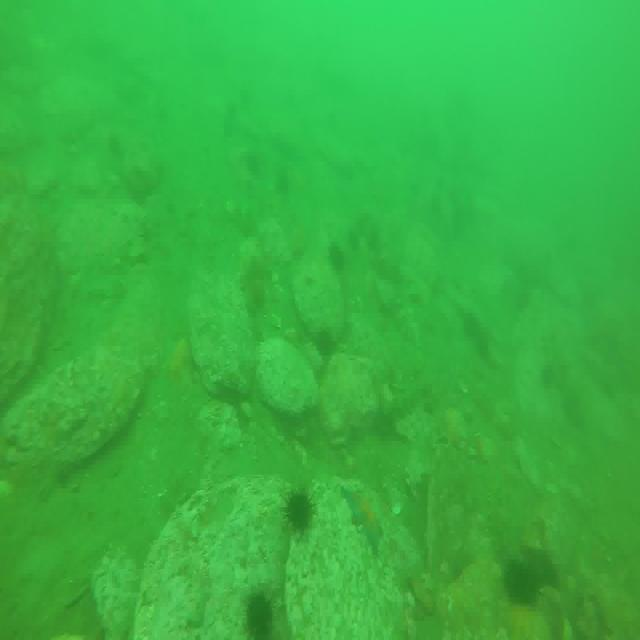echinus: (244, 595, 280, 640), (527, 544, 562, 588), (283, 491, 315, 533), (508, 555, 534, 606)
starfish: (339, 479, 384, 554)
